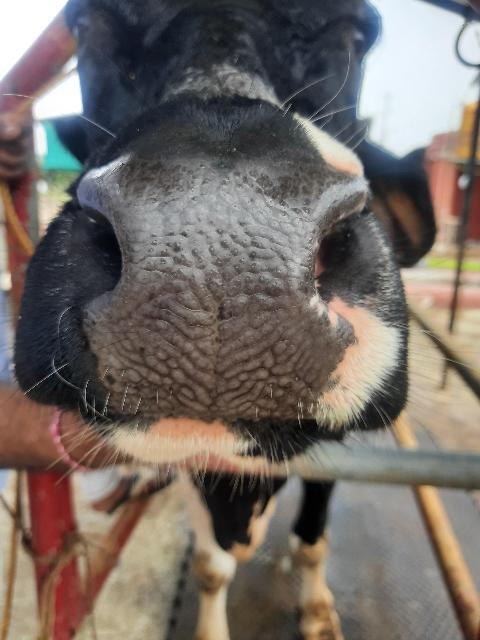Muzzle: (95, 172, 338, 414)
